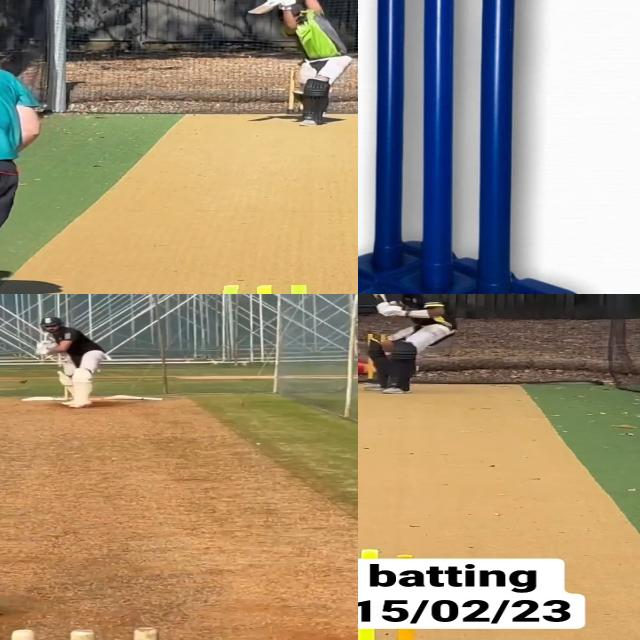Cricket ball: (19, 379, 28, 385)
Stumps: (370, 0, 522, 294)
